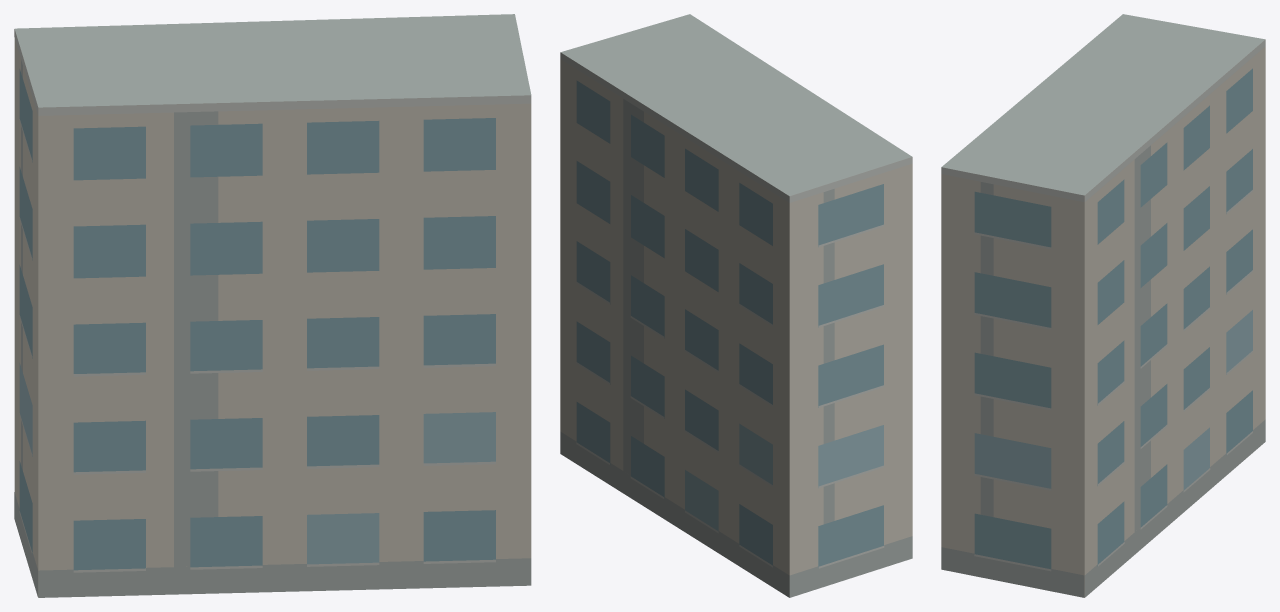
File: survey-upis-32724580.glb
3 views of the same model, side by side, from view 1: azimuth 30°, elevation 25°; view 2: azimuth 150°, elevation 25°; view 3: azimuth 270°, elevation 25° (orthographic). The views are drawn at different scales.
Parts seen in each view (by area): view 1: survey-upis-32724580.tmp; view 2: survey-upis-32724580.tmp; view 3: survey-upis-32724580.tmp.
Part boxes in pixels (<box>): survey-upis-32724580.tmp: <box>14,14,531,597</box>; survey-upis-32724580.tmp: <box>560,14,912,597</box>; survey-upis-32724580.tmp: <box>941,14,1265,597</box>.
Bounding box in the file's own units: 13.94 × 14.4 × 10.53.
